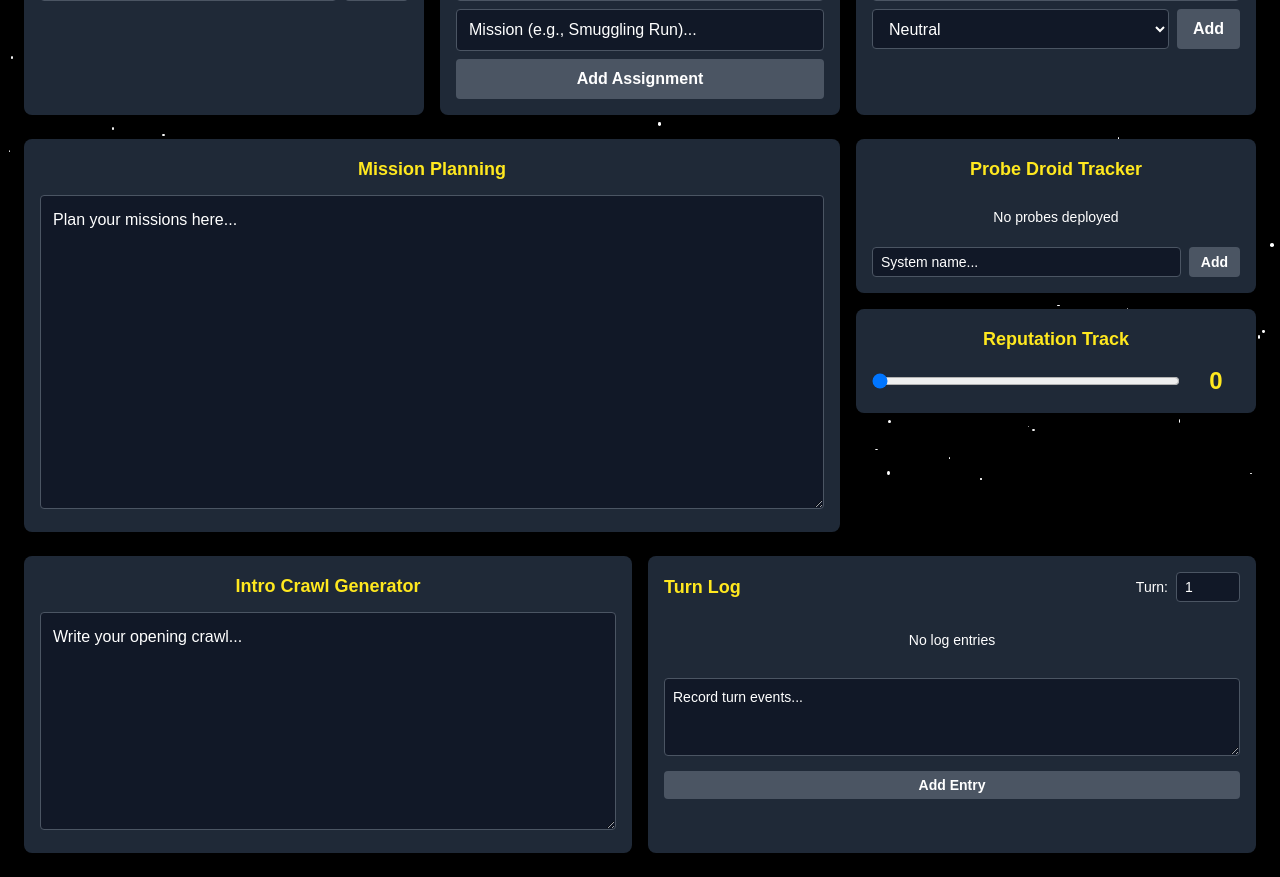
Test: Star Wars Rebellion Dashboard › Turn Log Journal › removes a turn log entry
(page scrolled)
Type "Test entry" into the text box with placeholder "Record turn events..." at [952, 717], box [664, 678, 1240, 756]
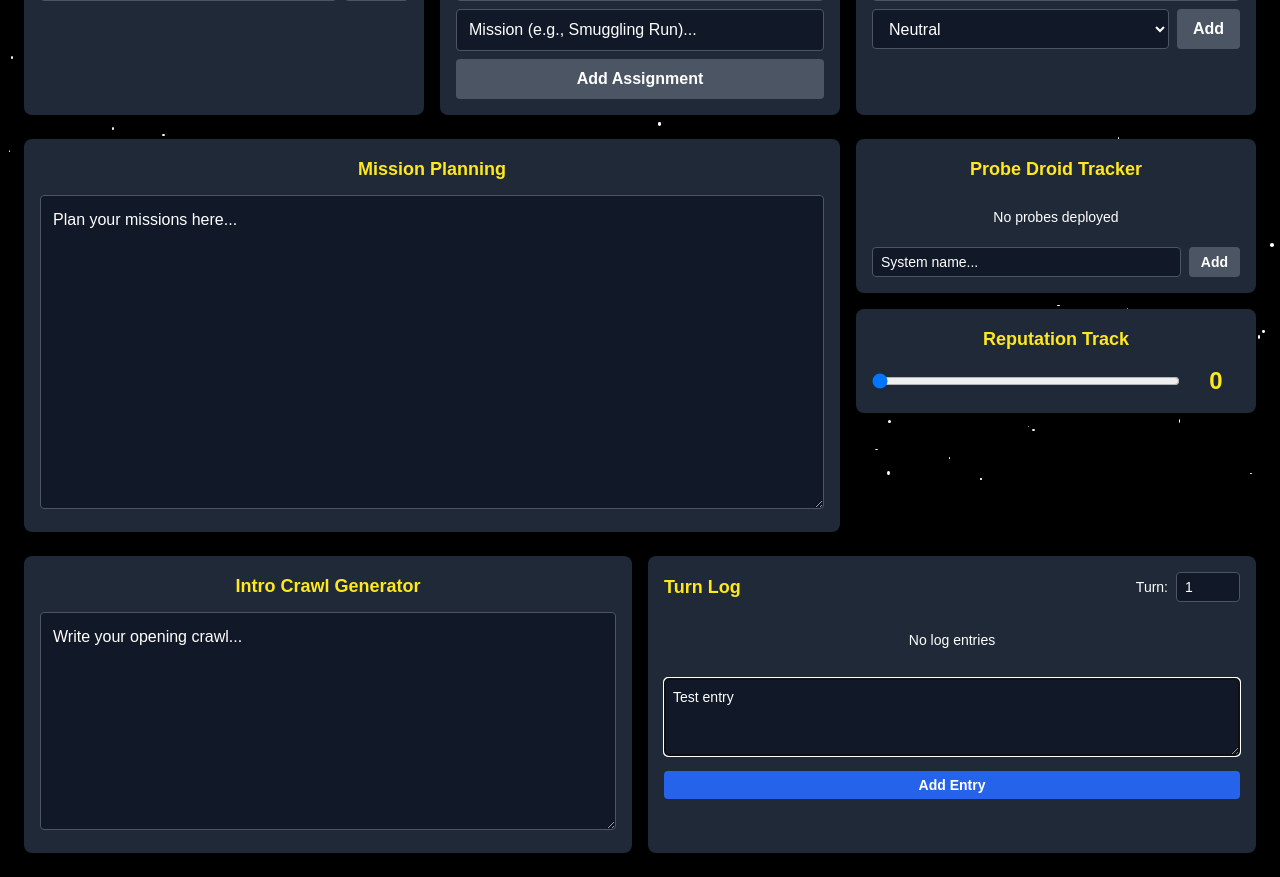
Click the button "Add Entry" at [952, 785], box [664, 771, 1240, 799]
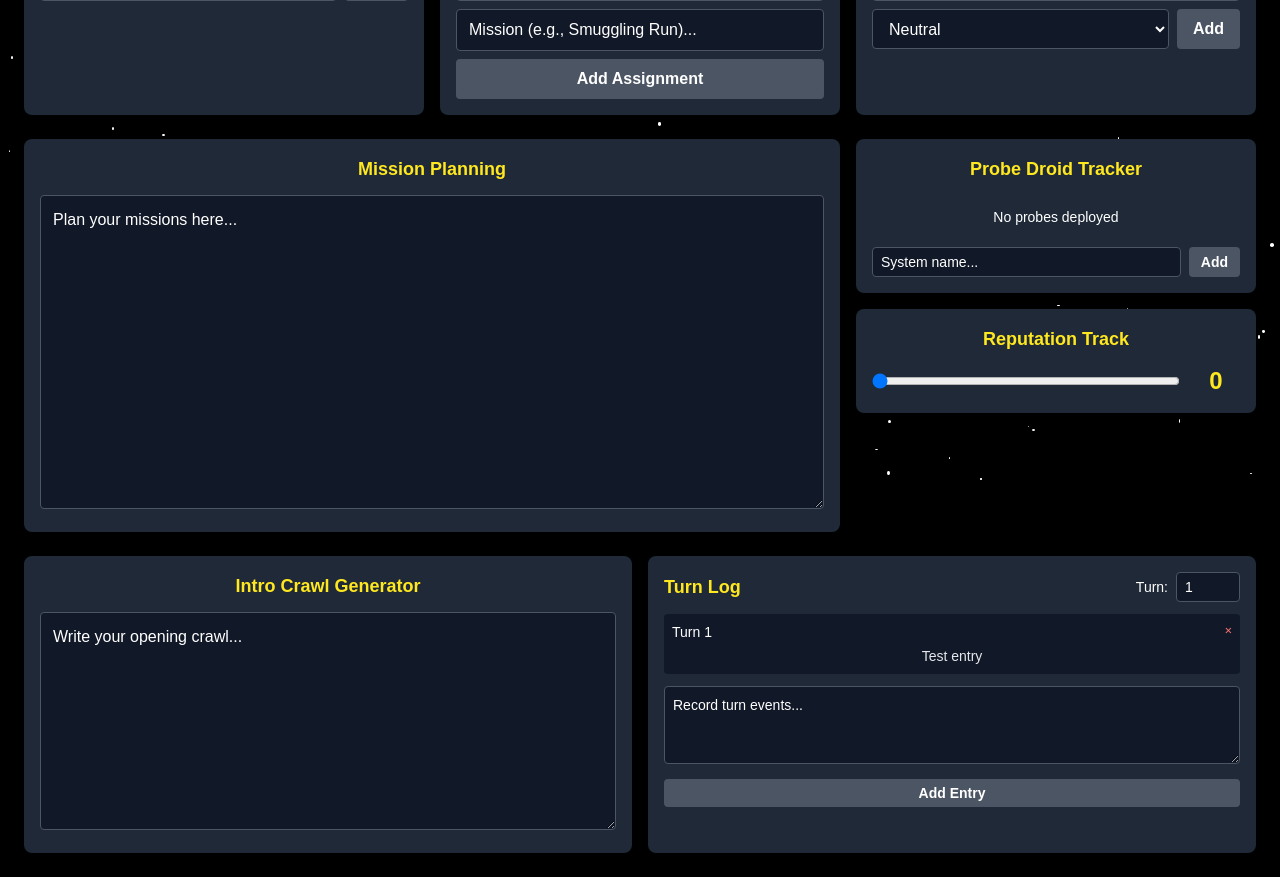
Result: the text "Test entry" is shown at [922, 648, 982, 664]
Click the button "✕" at [1228, 630], box [1225, 622, 1232, 638]
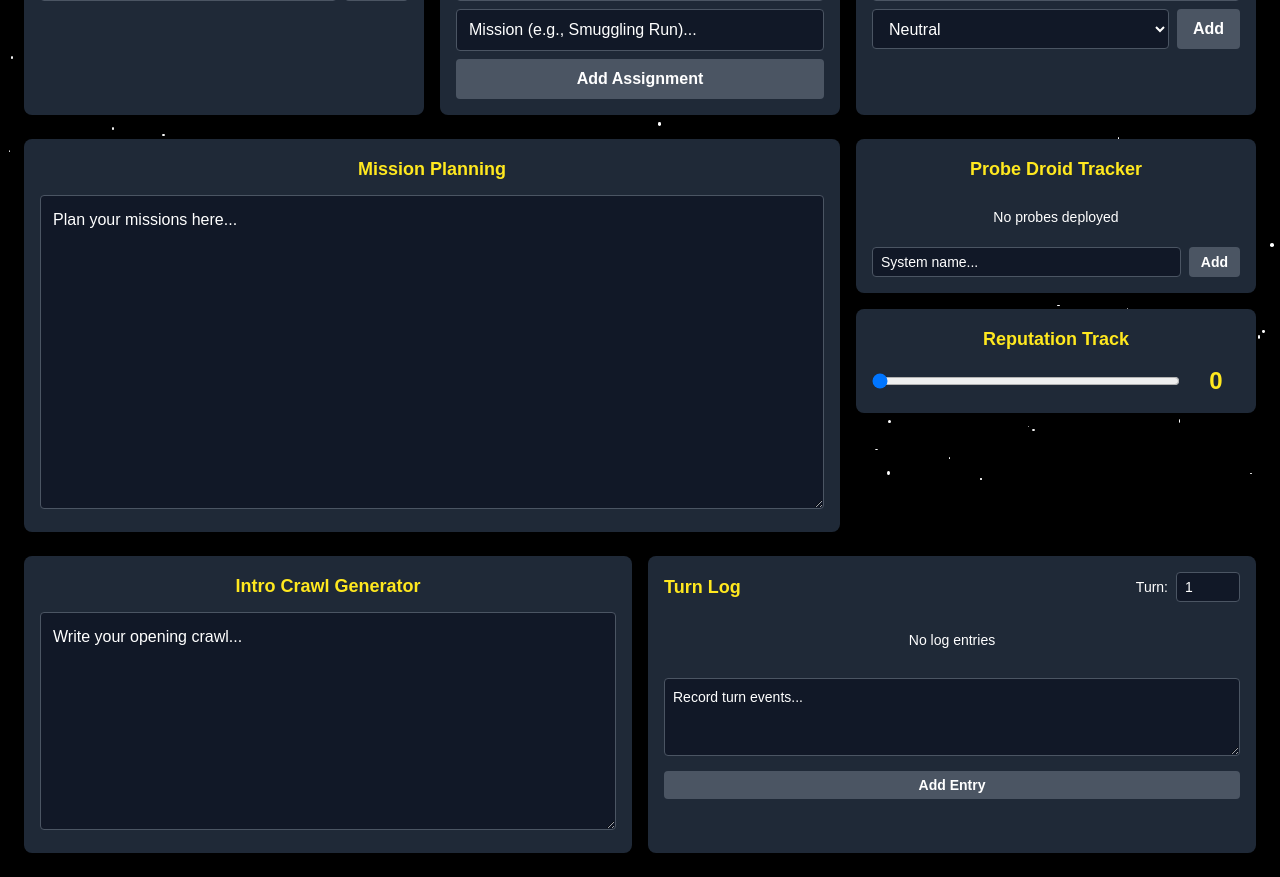
Result: the text "Test entry" is gone
